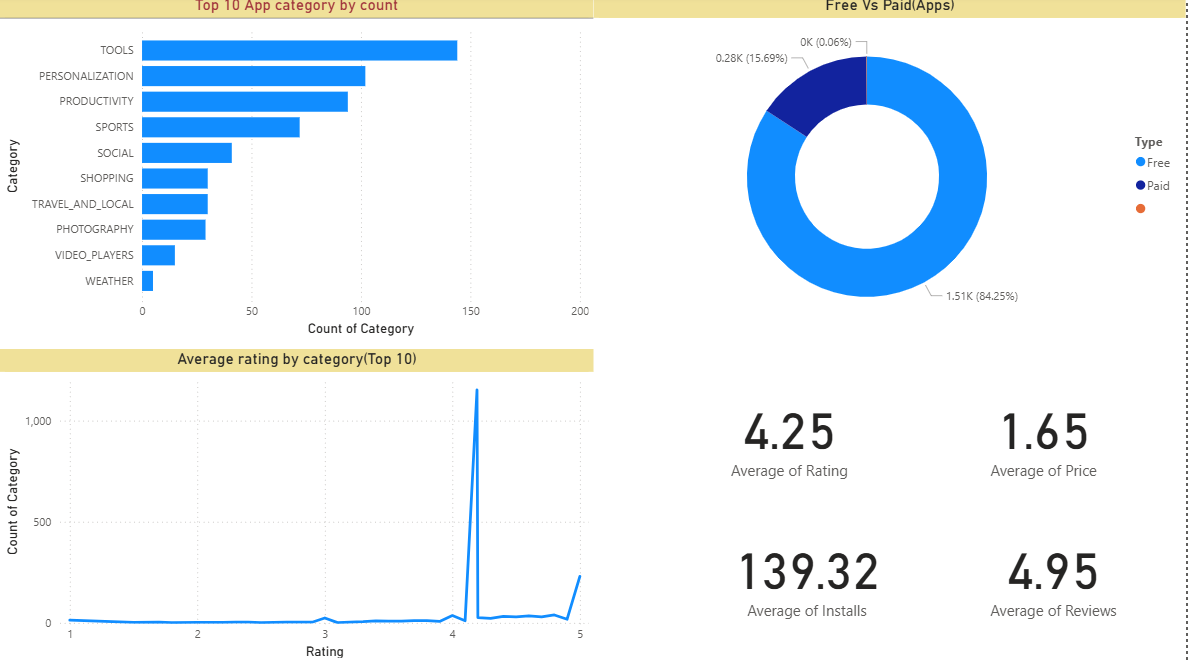

This screenshot's page, from the dashboard's own definition file:
{"tool":"powerbi","page":{"name":"Page 1","canvas":[1280,720],"ordinal":0},"visuals":[{"type":"clusteredBarChart","title":"Top 10 App category by count","fields":{"Category":["cleaned_playstore.Category"],"Y":["CountNonNull(cleaned_playstore.Category)"]},"box":[0,0,640.6,372.3],"z":0},{"type":"donutChart","title":"Free Vs Paid(Apps)","fields":{"Category":["cleaned_playstore.Type"],"Y":["CountNonNull(cleaned_playstore.Type)"]},"box":[640.6,0,638.7,372.3],"z":1000},{"type":"qnaVisual","box":[0,703,17,17],"z":2000},{"type":"lineChart","title":"Average rating by category(Top 10)","fields":{"Y":["CountNonNull(cleaned_playstore.Category)"],"Category":["cleaned_playstore.Rating"]},"box":[0,381.7,640.6,338.3],"z":3000},{"type":"card","fields":{"Values":["Avg(cleaned_playstore.Rating)"]},"box":[640.6,381.7,421.4,185.2],"z":4000},{"type":"card","fields":{"Values":["Avg(cleaned_playstore.Installs)"]},"box":[640.6,531,459.2,189],"z":5000},{"type":"card","fields":{"Values":["Avg(cleaned_playstore.Price)"]},"box":[973.2,381.7,306.1,185.2],"z":6000},{"type":"card","fields":{"Values":["Avg(cleaned_playstore.Reviews)"]},"box":[994,531,285.4,189],"z":7000}]}

Visuals, with their boxes in screenshot pixels (x1, y1, x2, y2), scaled from the page's 1280x720 canvas onto the 1188x660 screenshot:
"Top 10 App category by count" clusteredBarChart: bbox(0, 0, 595, 341)
"Free Vs Paid(Apps)" donutChart: bbox(595, 0, 1187, 341)
qnaVisual: bbox(0, 644, 16, 659)
"Average rating by category(Top 10)" lineChart: bbox(0, 350, 595, 659)
card - Avg(cleaned_playstore.Rating): bbox(595, 350, 986, 520)
card - Avg(cleaned_playstore.Installs): bbox(595, 487, 1021, 659)
card - Avg(cleaned_playstore.Price): bbox(903, 350, 1187, 520)
card - Avg(cleaned_playstore.Reviews): bbox(923, 487, 1187, 659)
